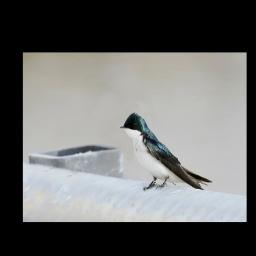Swallow: (119, 111, 213, 194)
